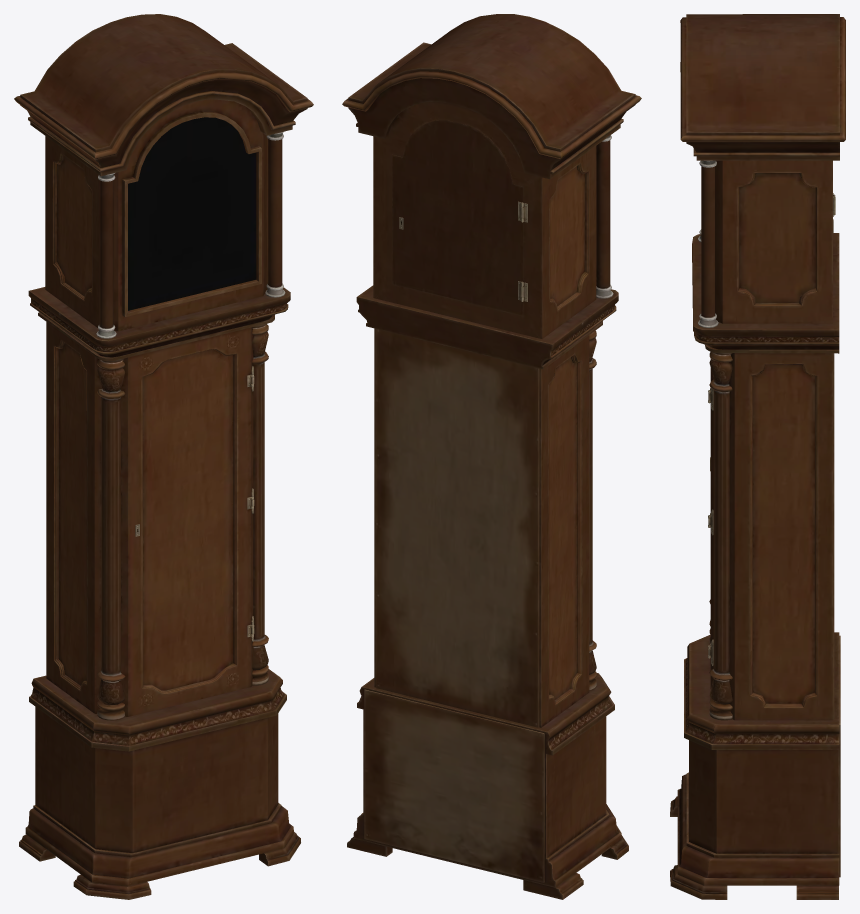
The model's file is vintage_grandfather_clock_01.glb.
The picture shows the model from 3 angles, left to right: view 1: azimuth 30°, elevation 25°; view 2: azimuth 150°, elevation 25°; view 3: azimuth 270°, elevation 25°; orthographic projection. The views are drawn at different scales.
Visible parts, largest first — view 1: vintage_grandfather_clock_01_body; view 2: vintage_grandfather_clock_01_body; view 3: vintage_grandfather_clock_01_body.
Boxes of the visible parts, x1=… form: vintage_grandfather_clock_01_body: x1=14, y1=14, x2=313, y2=899; vintage_grandfather_clock_01_body: x1=342, y1=14, x2=641, y2=899; vintage_grandfather_clock_01_body: x1=670, y1=14, x2=845, y2=899.
Bounding box in the file's own units: 0.6255 × 2.19 × 0.4265.
Materials: 2 (2 with a texture image).
